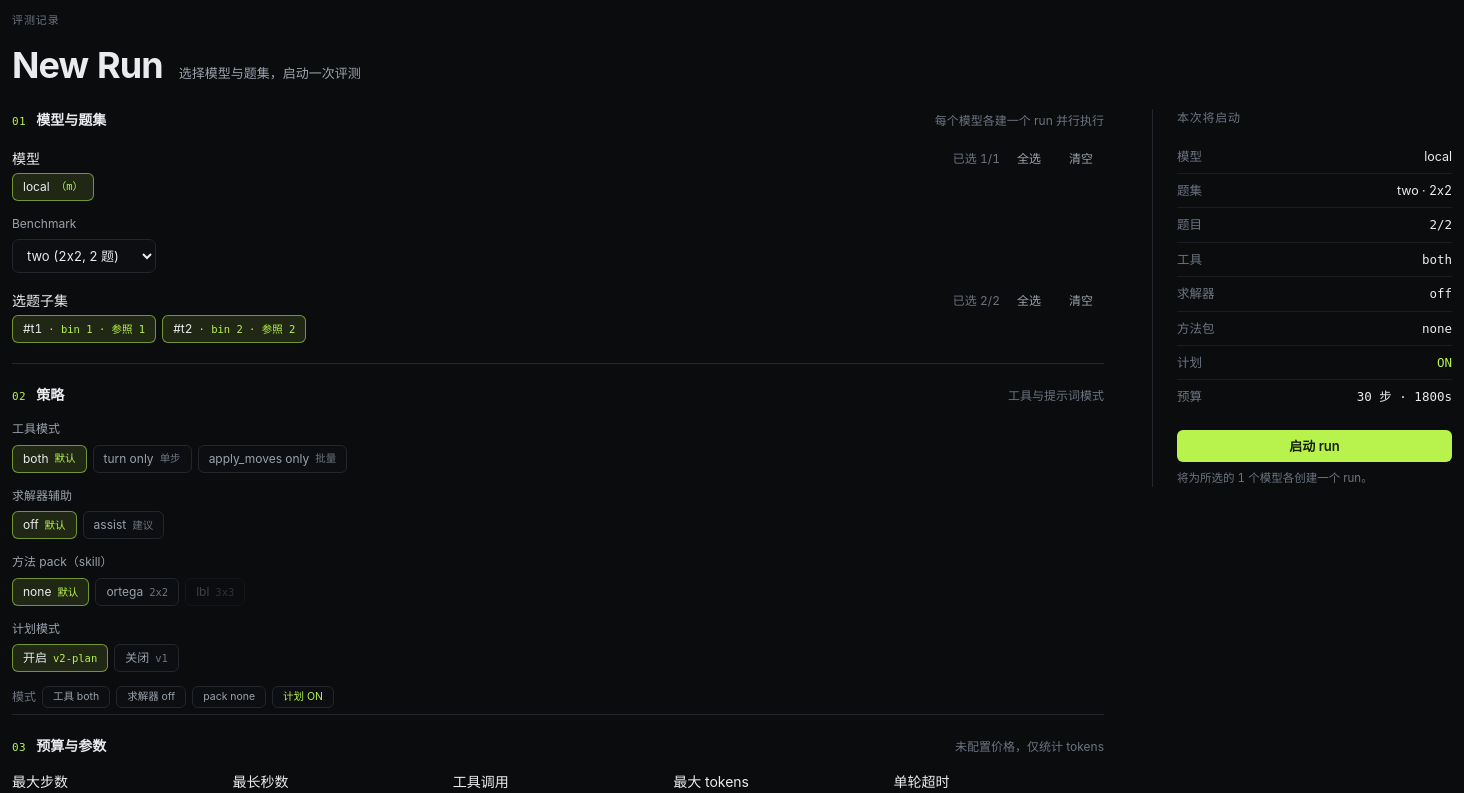
Test: NewRunView › rejects an empty task selection
The width and height of the screenshot is (1464, 793).
Click the checkbox labelled "#t1 · bin 1 · 参照 1": (84, 329) [12,315,156,343]
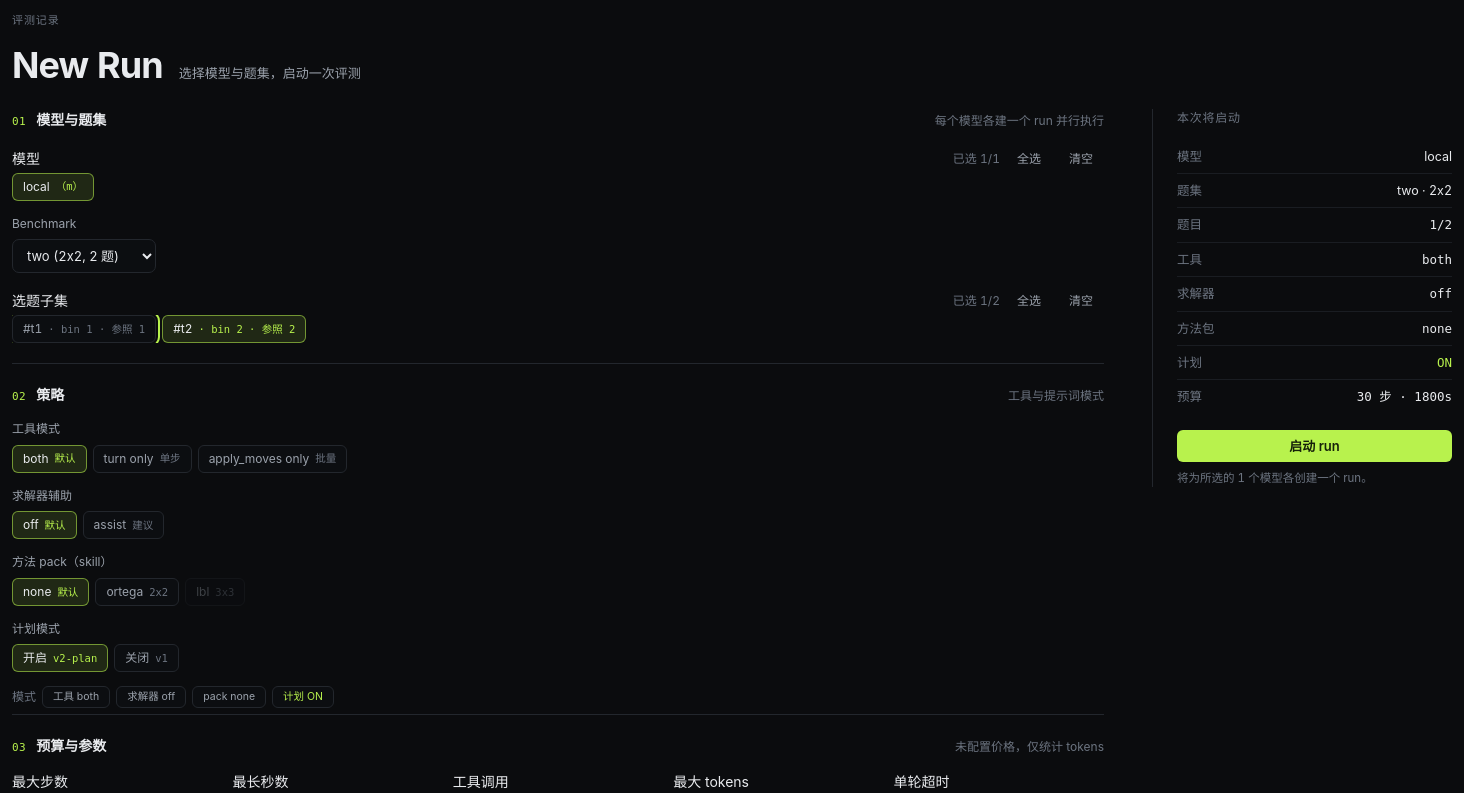
Click the checkbox labelled "#t2 · bin 2 · 参照 2": (234, 329) [162,315,306,343]
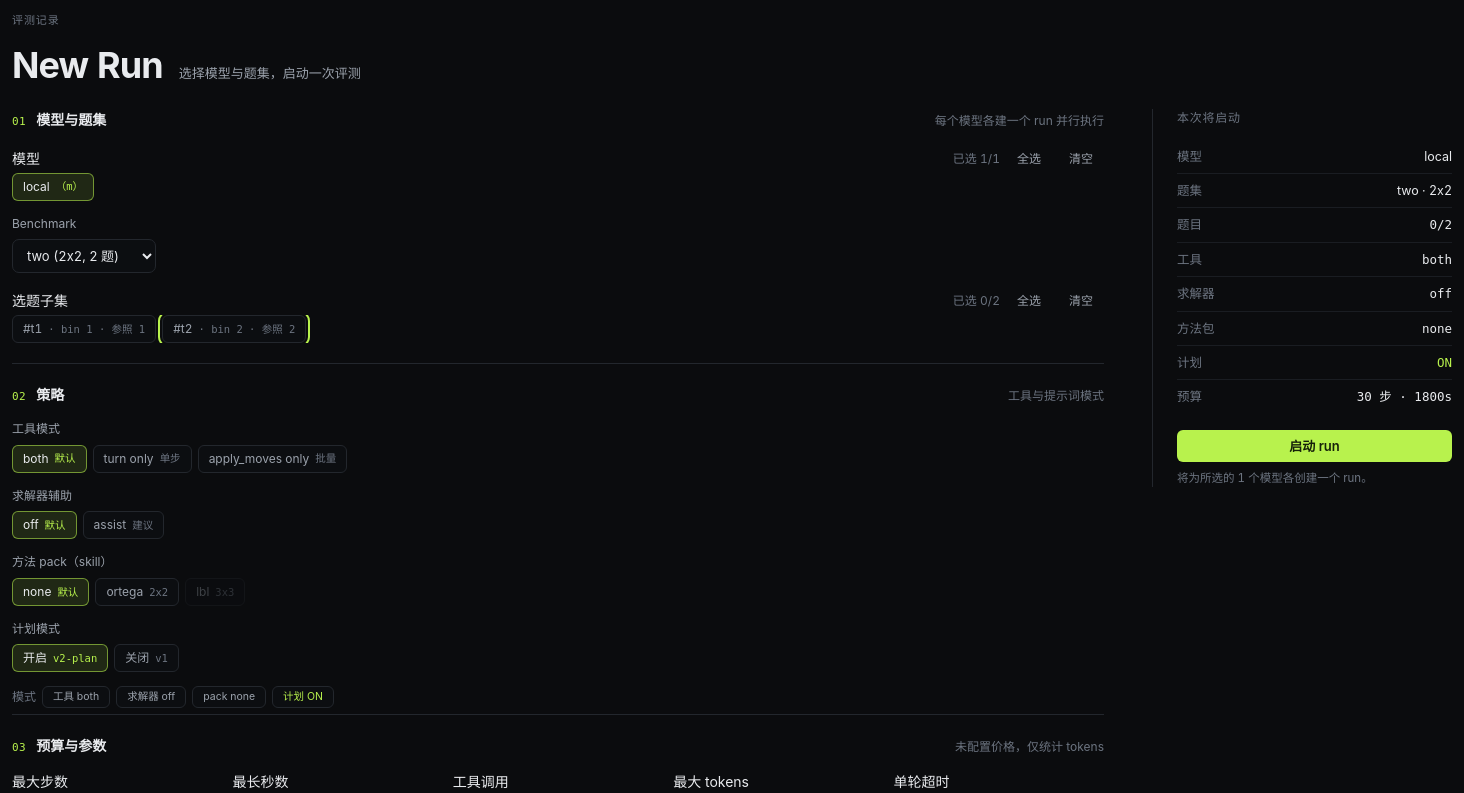
Click the button "启动 run": (1314, 446) [1177,430,1452,462]
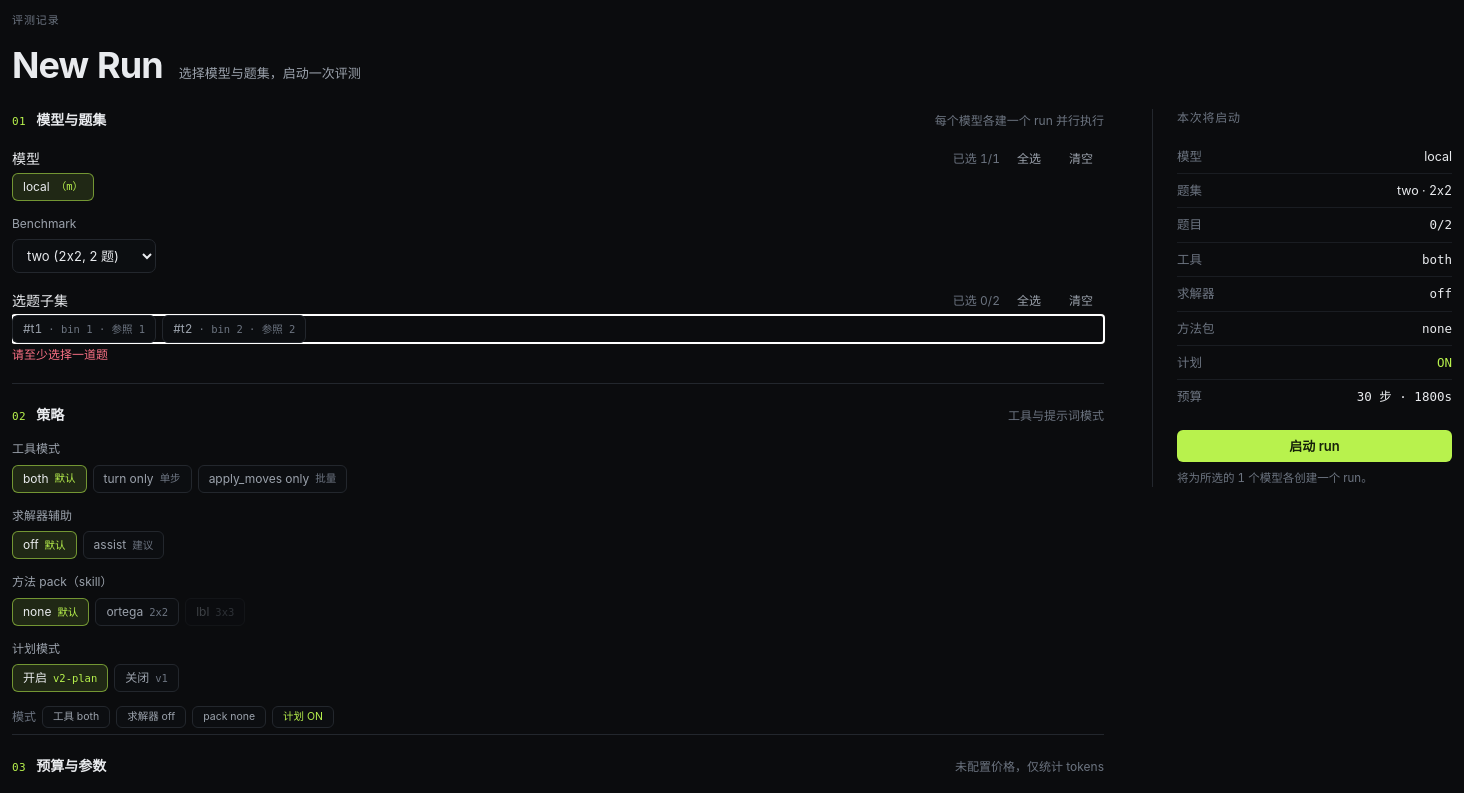
Expected: the text "请至少选择一道题" is shown, [12,347,108,362]
